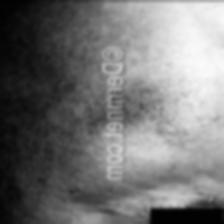Potentially Malignant Skin Tumors: (129, 70, 192, 152), (89, 74, 104, 148)
